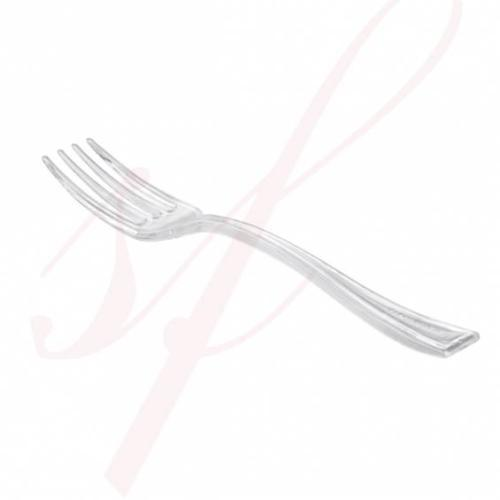Fork: (40, 137, 480, 359)
